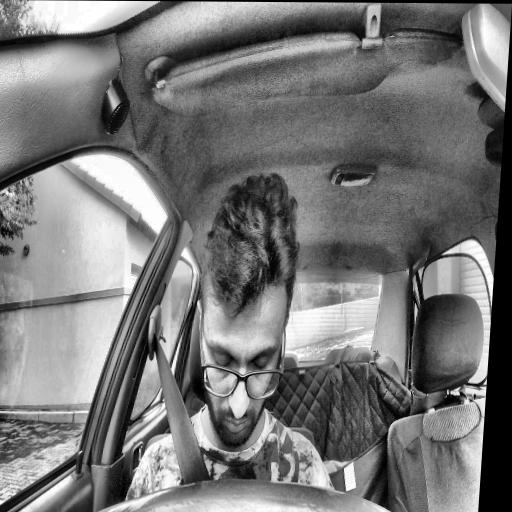drowsy: (187, 170, 305, 450)
